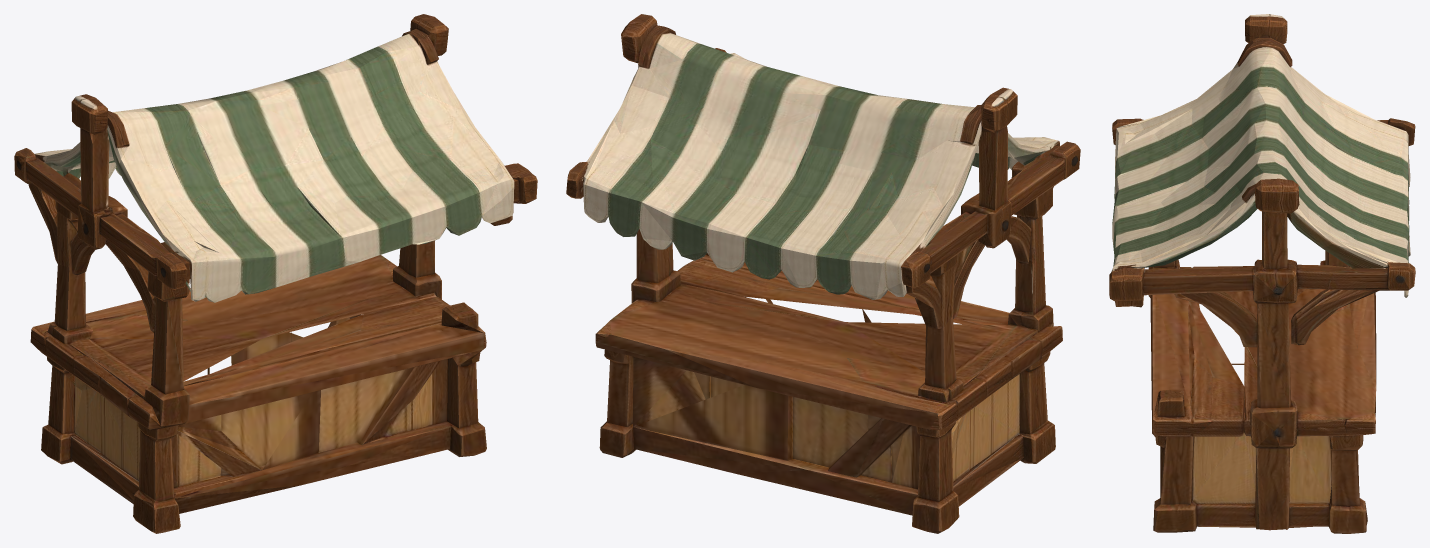
Rendered from market-stall-a-game.glb.
3 views of the same model, side by side, from view 1: azimuth 30°, elevation 25°; view 2: azimuth 150°, elevation 25°; view 3: azimuth 270°, elevation 25° (orthographic). The views are drawn at different scales.
Visible parts, largest first — view 1: output_unwrapped; view 2: output_unwrapped; view 3: output_unwrapped.
Boxes of the visible parts, bbox=[...] form: output_unwrapped: bbox=[14, 14, 537, 533]; output_unwrapped: bbox=[566, 14, 1080, 533]; output_unwrapped: bbox=[1109, 14, 1415, 533].
Size of the model in its own units: 1.89 by 1.89 by 1.44.
Materials: 1 (1 with a texture image).
